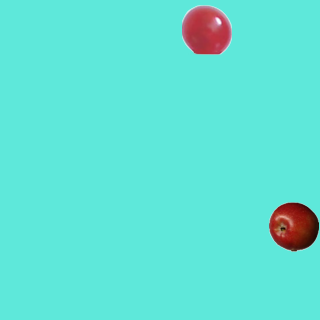Apple Braeburn: (268, 201, 318, 251)
Redcurrant: (181, 4, 231, 54)
